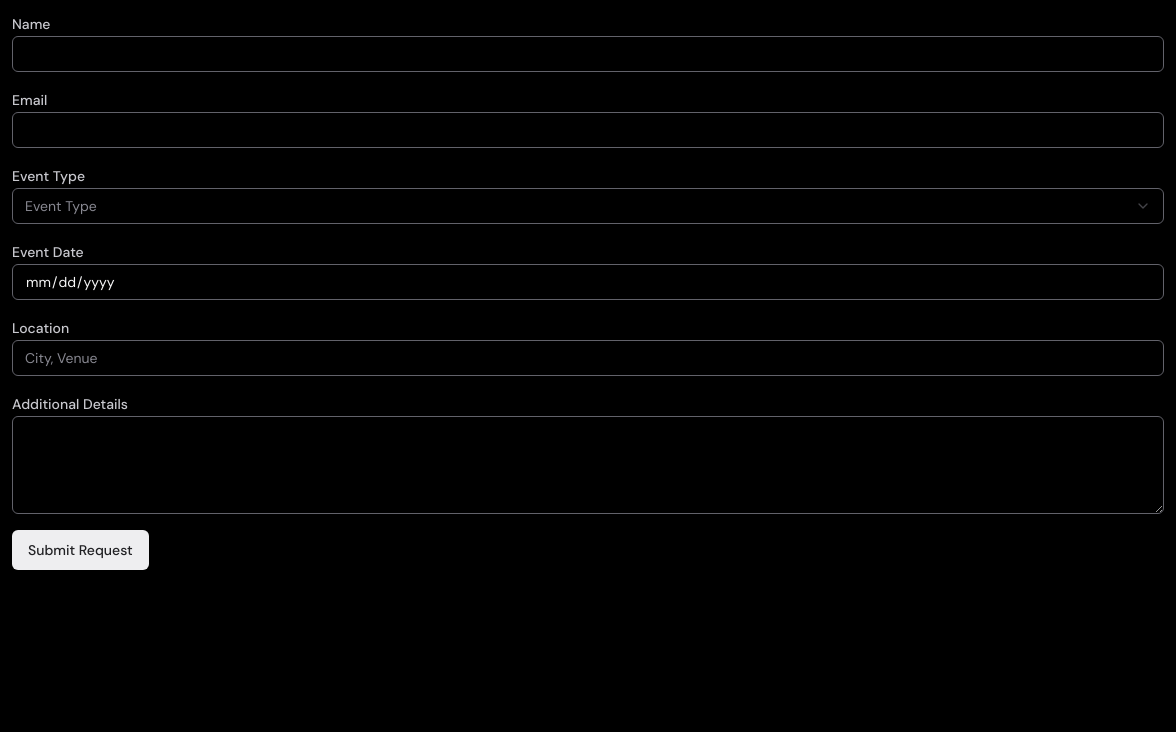
Scenario: BookingForm › shows error message after failed submission
The image size is (1176, 732).
Type "John Doe" into the field with test id "booking-name".
click(588, 54); type("John Doe")  # box left=12, top=36, right=1164, bottom=72
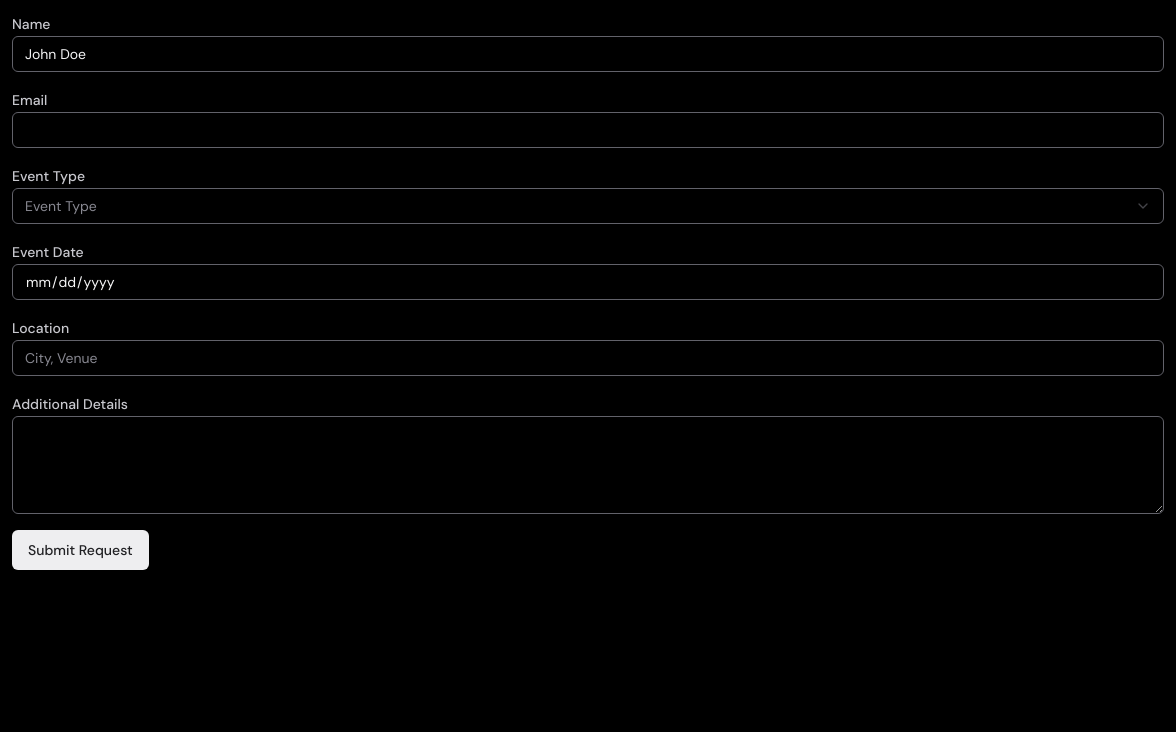
Type "john@example.com" into the field with test id "booking-email".
click(588, 130); type("john@example.com")  # box left=12, top=112, right=1164, bottom=148
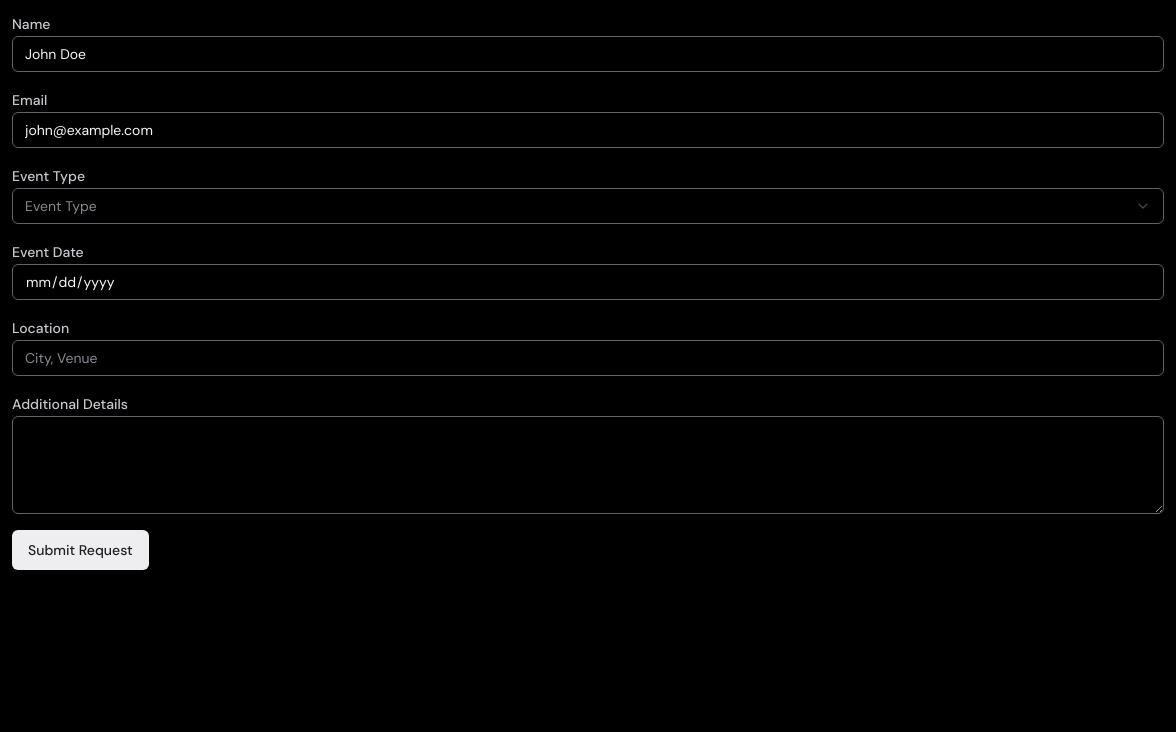
Submit the form with test id "booking-form"
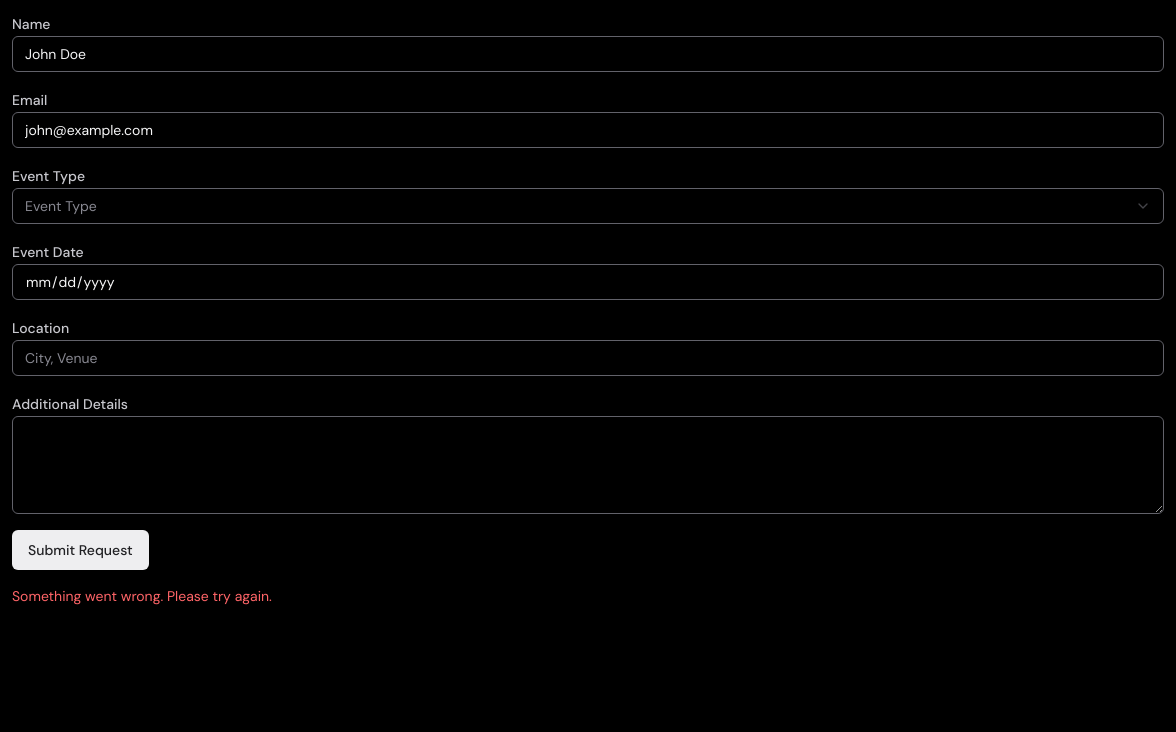
Check: the text "Something went wrong. Please try again." is shown, box left=12, top=587, right=272, bottom=605
